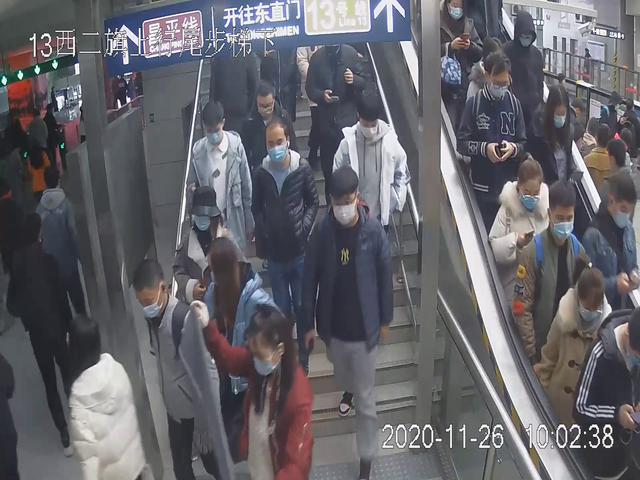person: (291, 165, 398, 480), (191, 298, 315, 480), (126, 256, 226, 480), (250, 113, 322, 390), (510, 174, 592, 387), (328, 84, 408, 299), (185, 94, 258, 315), (451, 47, 527, 247)
